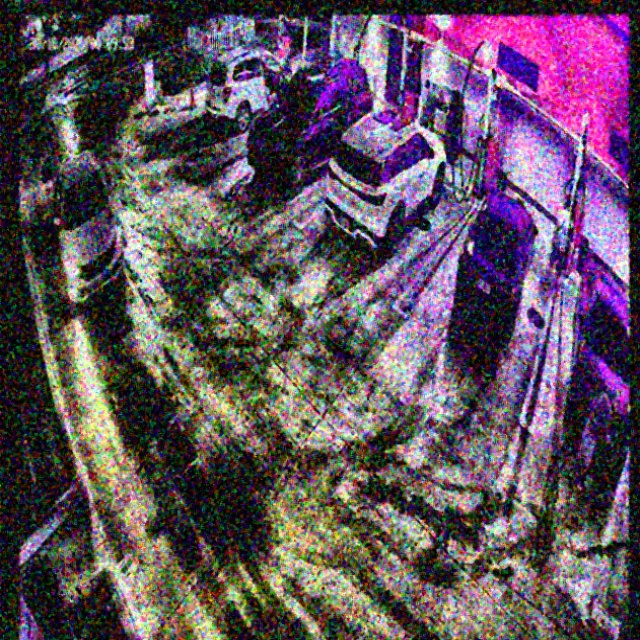Car: (325, 111, 447, 259), (251, 53, 370, 190), (453, 190, 536, 341)
